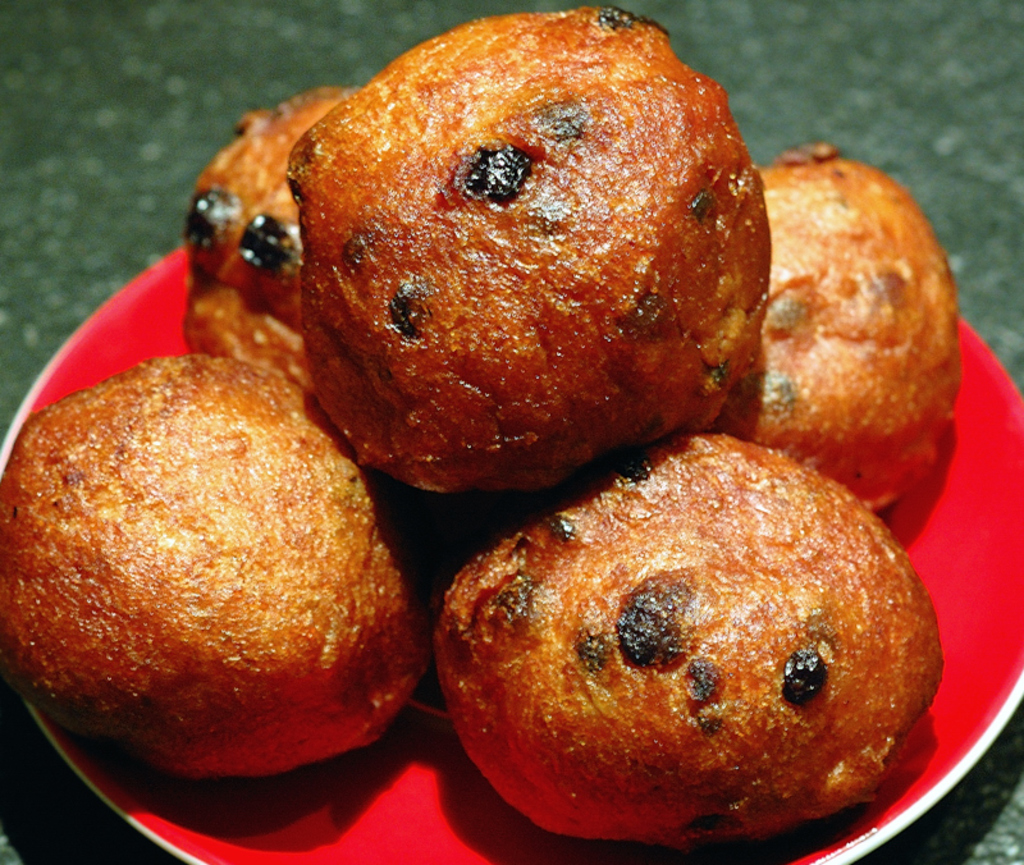face: (284, 3, 752, 539)
